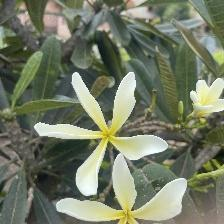champaka: (34, 68, 171, 201), (56, 154, 189, 224), (187, 78, 224, 121)
